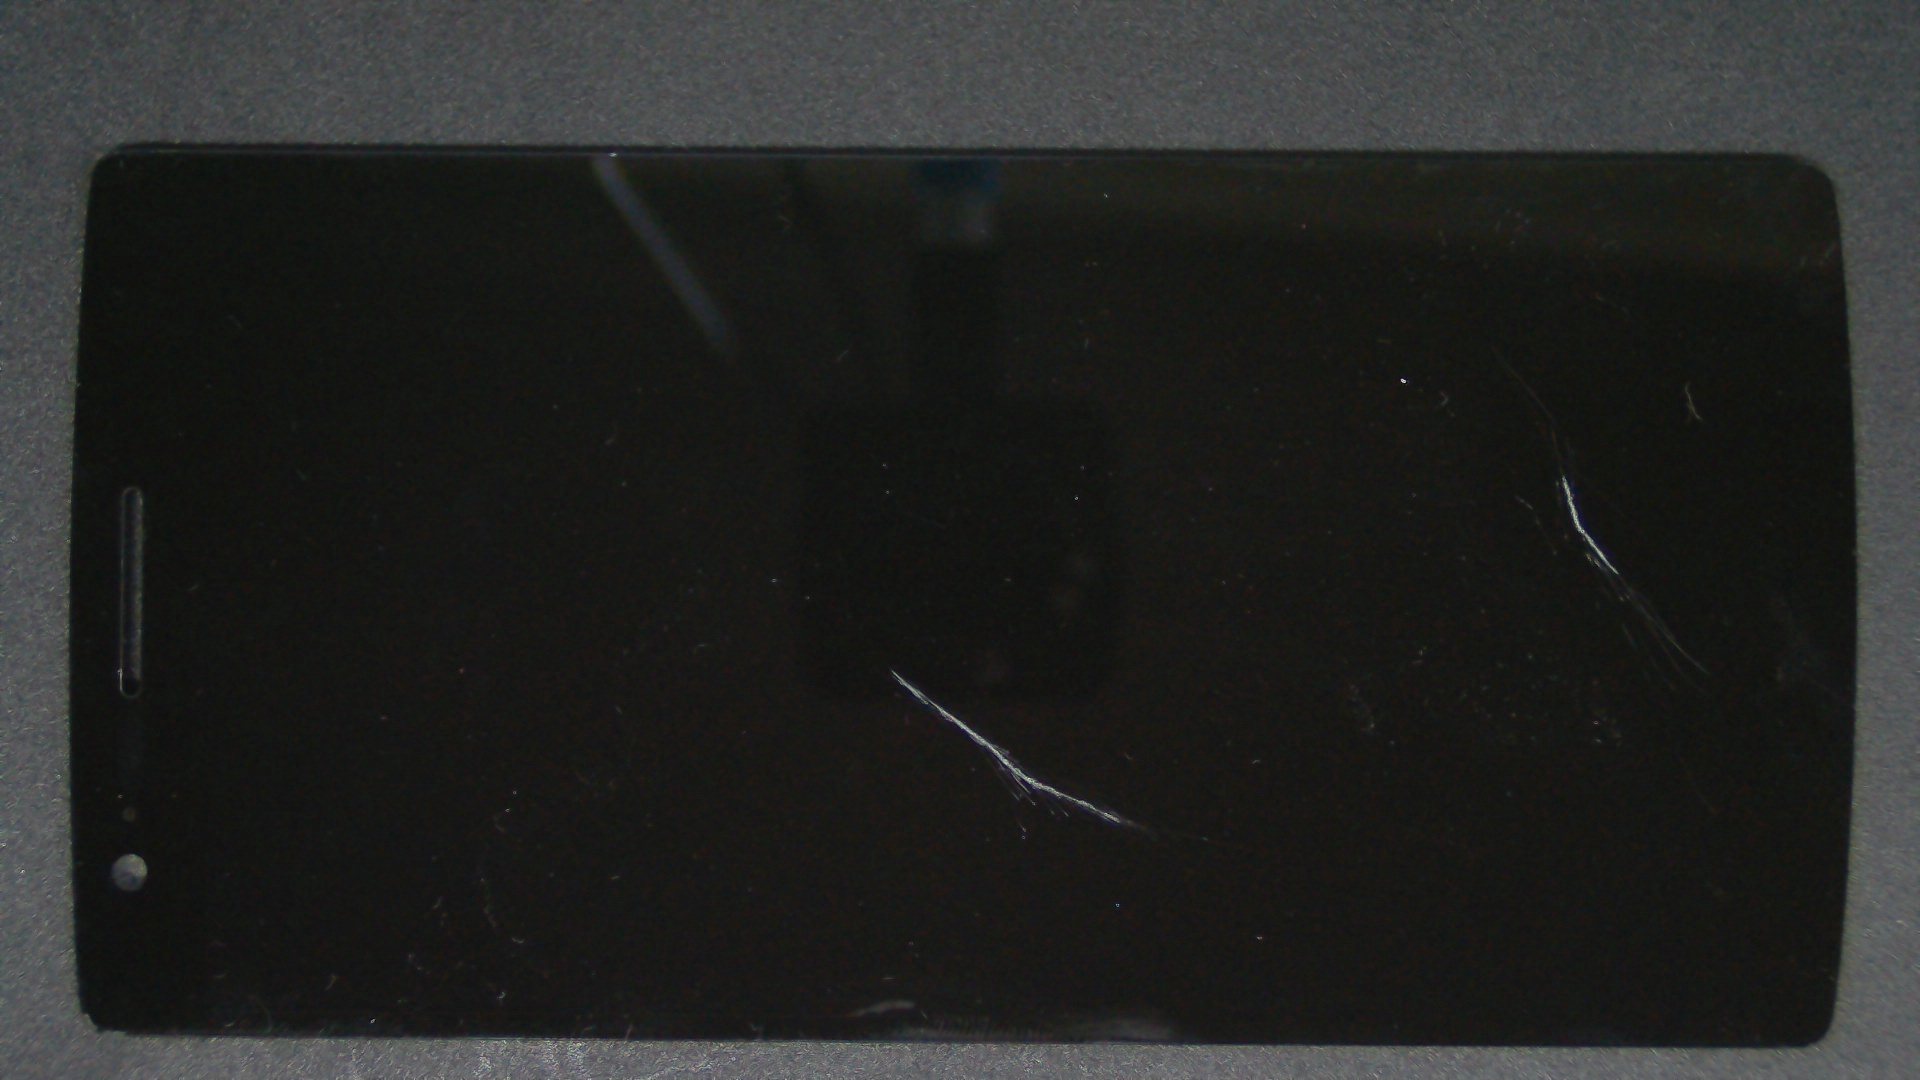oil: (795, 276, 1920, 829), (447, 334, 1337, 1002), (781, 236, 1920, 713)
